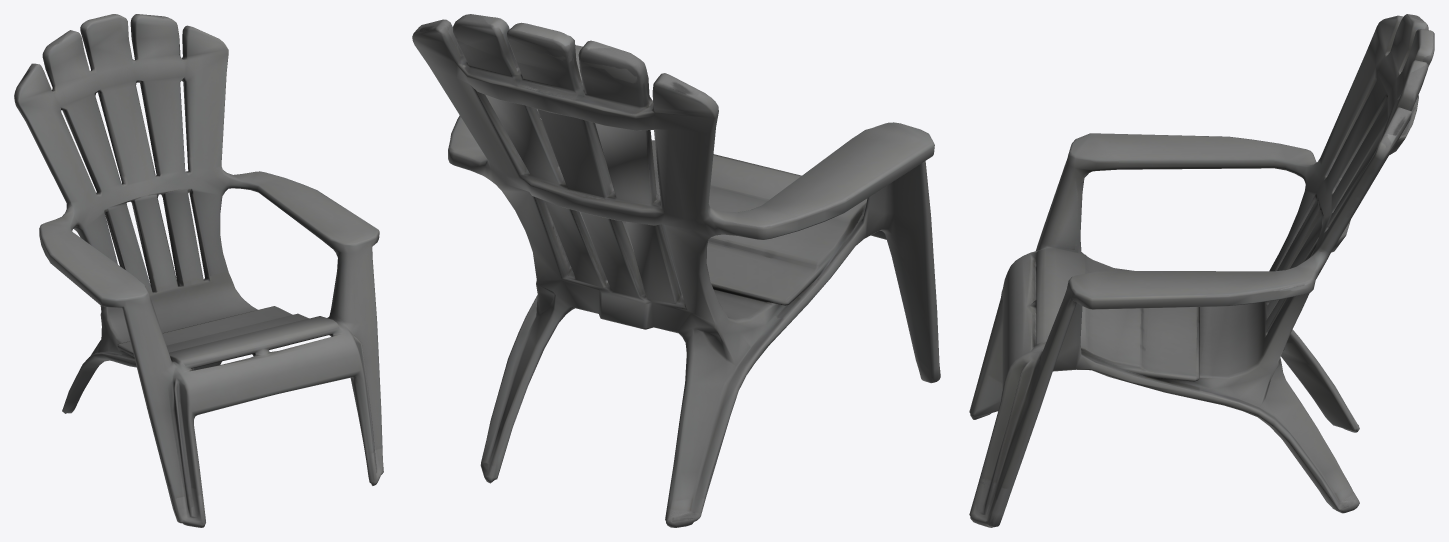
Rendered from adirondack_chair_0127182456_texture.glb.
3 views of the same model, side by side, from view 1: azimuth 30°, elevation 25°; view 2: azimuth 150°, elevation 25°; view 3: azimuth 270°, elevation 25° (orthographic). The views are drawn at different scales.
Parts seen in each view (by area): view 1: Mesh_0; view 2: Mesh_0; view 3: Mesh_0.
Boxes of the visible parts, x1,y1,x2,y2 form: Mesh_0: (14, 14, 383, 527); Mesh_0: (412, 14, 940, 527); Mesh_0: (969, 14, 1434, 527).
Bounding box in the file's own units: 0.732 × 0.889 × 0.8634.
Materials: 1 (1 with a texture image).
